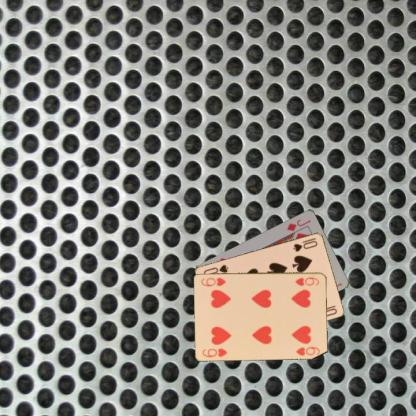10s: (291, 235, 319, 253)
6h: (292, 275, 320, 287), (200, 346, 228, 358)
Jd: (284, 216, 312, 232)
